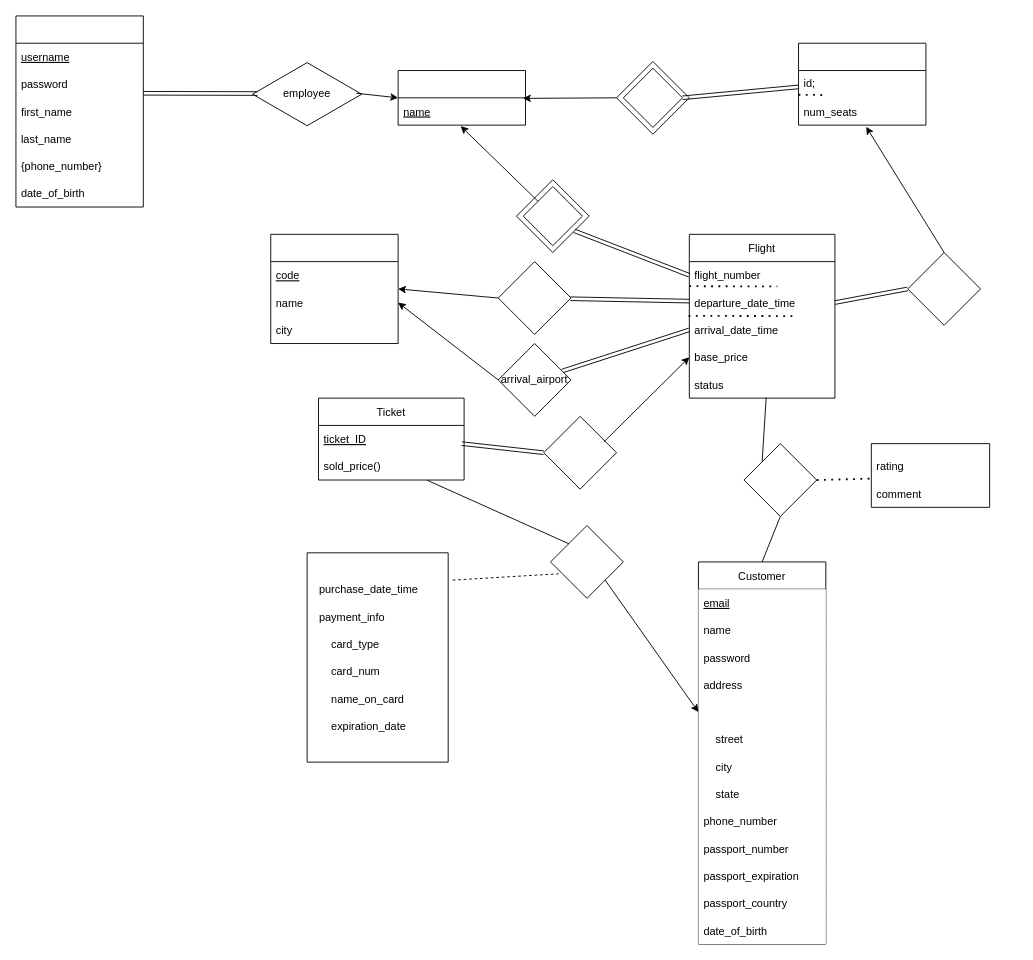
This 1033x960 diagram has some shape labels left out. The shapes that lost their labels are listed below. From the top down, each one's box as (x1, y1, x2, y2) in pixels, then its label:
(397, 70, 526, 125): Airline
(622, 67, 682, 127): owns
(798, 42, 926, 125): Airplane
(15, 15, 143, 207): Staff
(522, 186, 582, 246): operate
(270, 233, 398, 344): Airport
(497, 261, 571, 334): depart_airport
(907, 252, 981, 325): for
(543, 415, 617, 489): of
(743, 443, 817, 516): rate
(550, 525, 623, 598): buy
(698, 698, 825, 725): building_number
